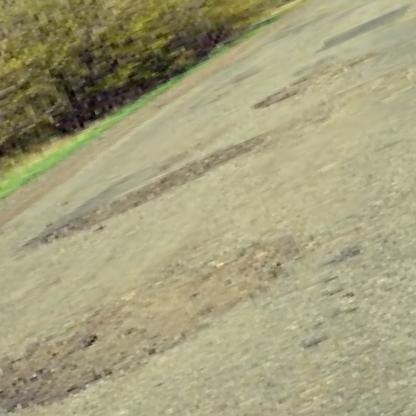pothole: (0, 217, 324, 416), (27, 126, 282, 256), (245, 42, 381, 117)
